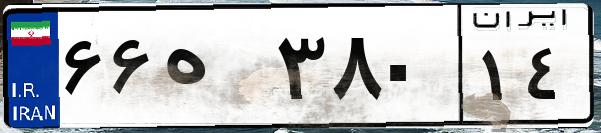0: (385, 28, 445, 110)
1: (475, 38, 525, 113)
3: (270, 28, 330, 110)
4: (525, 38, 570, 115)
6: (57, 26, 110, 100), (110, 28, 158, 98)
8: (330, 28, 385, 110)
ه: (158, 20, 270, 120)
